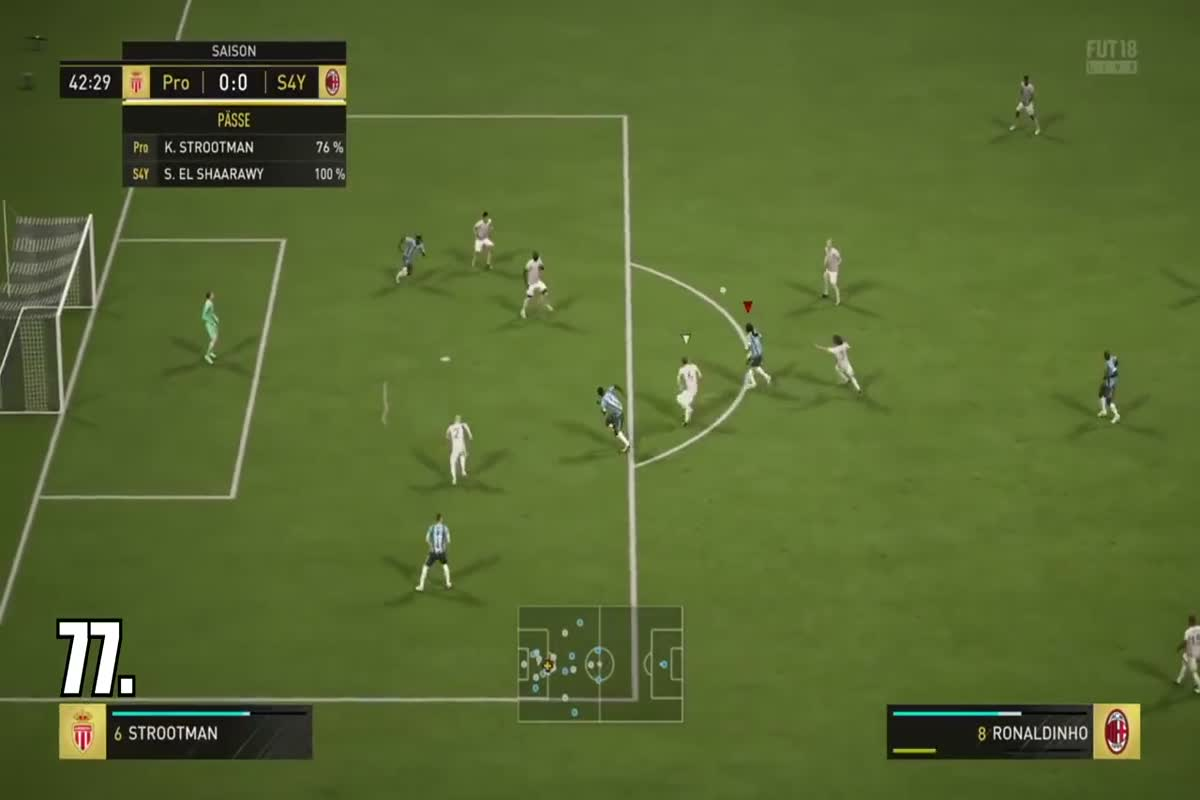ball: (713, 281, 736, 299)
